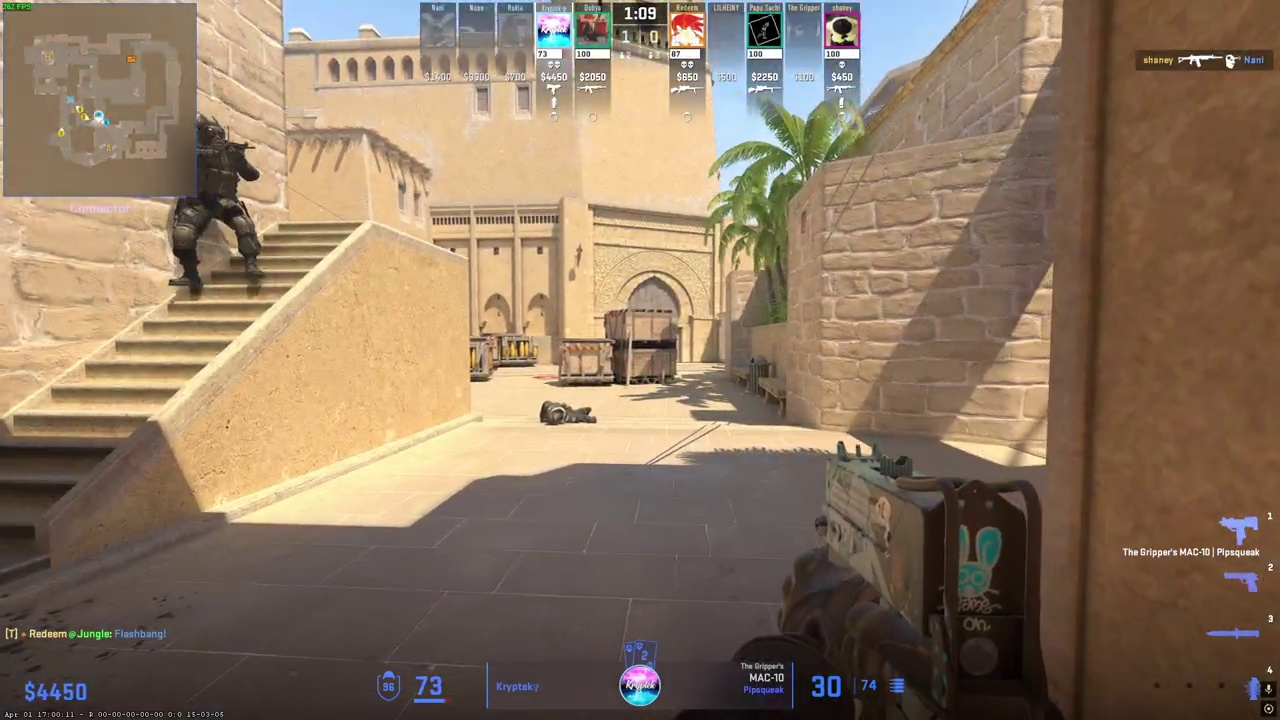CT: (171, 113, 263, 286)
